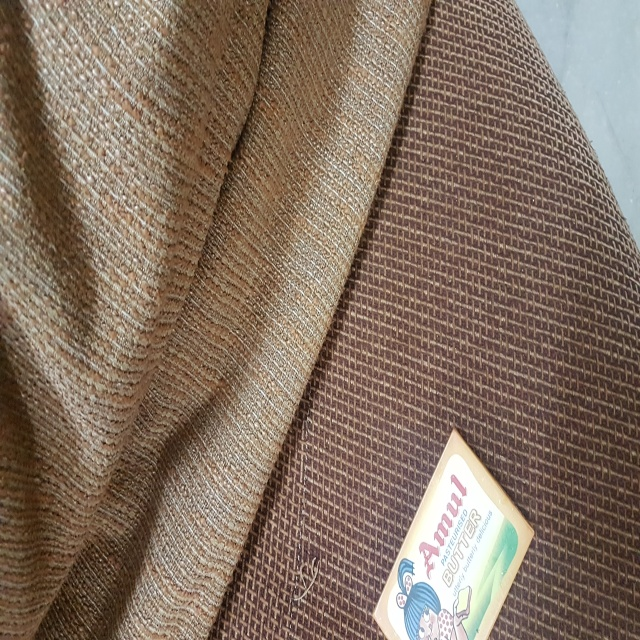butter: (367, 425, 534, 639)
